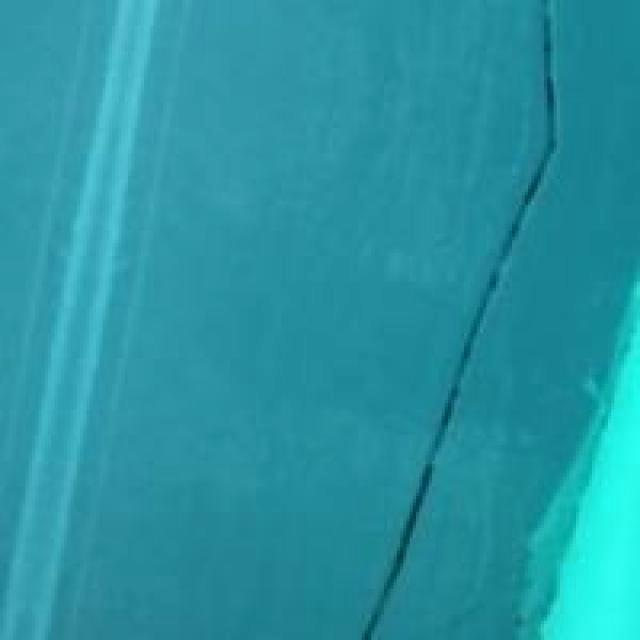crack: (362, 0, 574, 640)
